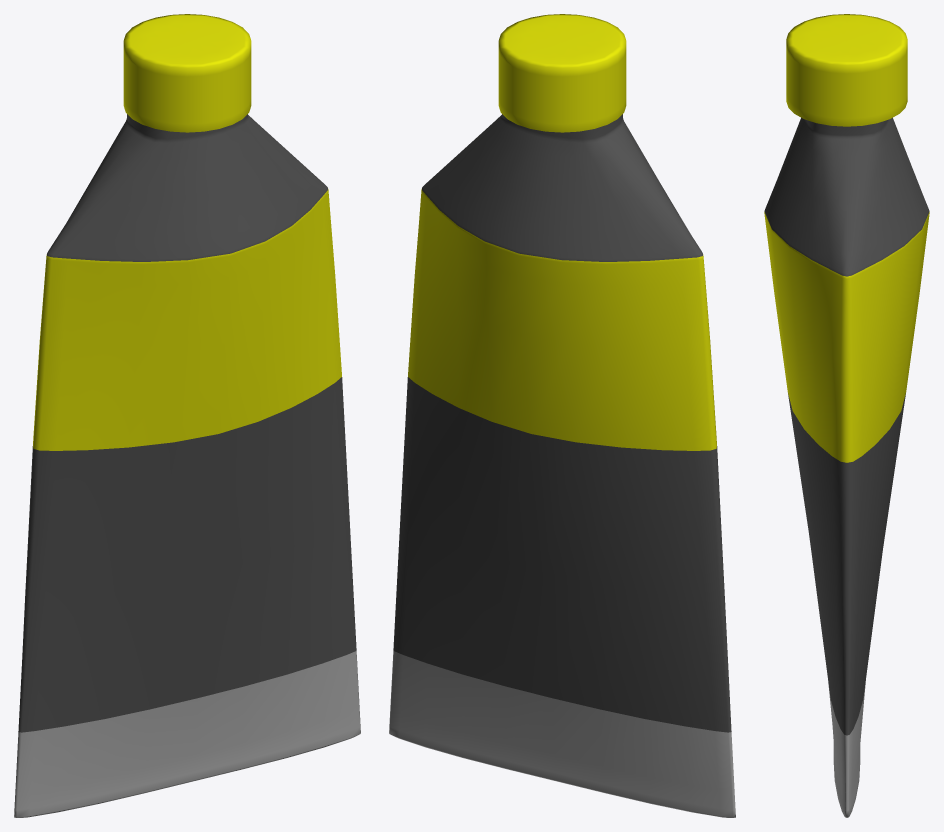
File: pintura_amarilla.fbx
The picture shows the model from 3 angles, left to right: view 1: azimuth 30°, elevation 25°; view 2: azimuth 150°, elevation 25°; view 3: azimuth 270°, elevation 25°; orthographic projection. The views are drawn at different scales.
Visible parts, largest first — view 1: pCylinder3; view 2: pCylinder3; view 3: pCylinder3.
Boxes of the visible parts, bbox=[...] form: pCylinder3: bbox=[14, 14, 360, 817]; pCylinder3: bbox=[389, 14, 735, 817]; pCylinder3: bbox=[764, 14, 929, 817].
Size of the model in its own units: 2.26 by 4.59 by 0.9788.
